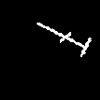double_crochet: (37, 23, 90, 56)
